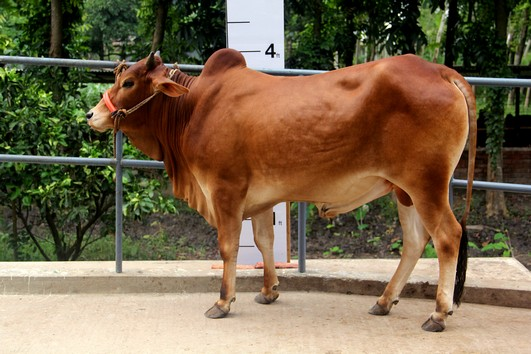cow: (82, 41, 485, 337)
